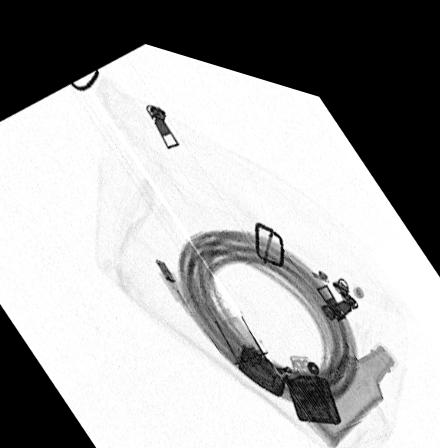Lighter: (237, 329, 342, 406)
